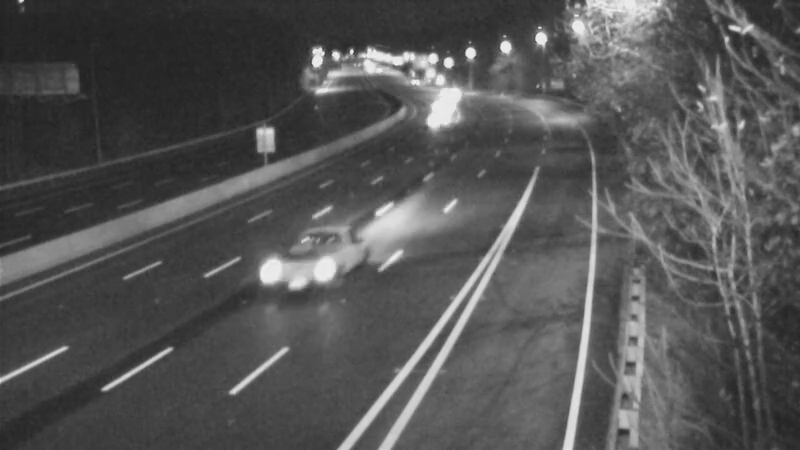vehicle: (267, 222, 347, 302), (391, 58, 441, 108), (419, 67, 469, 117), (419, 81, 469, 131), (418, 93, 468, 143)
